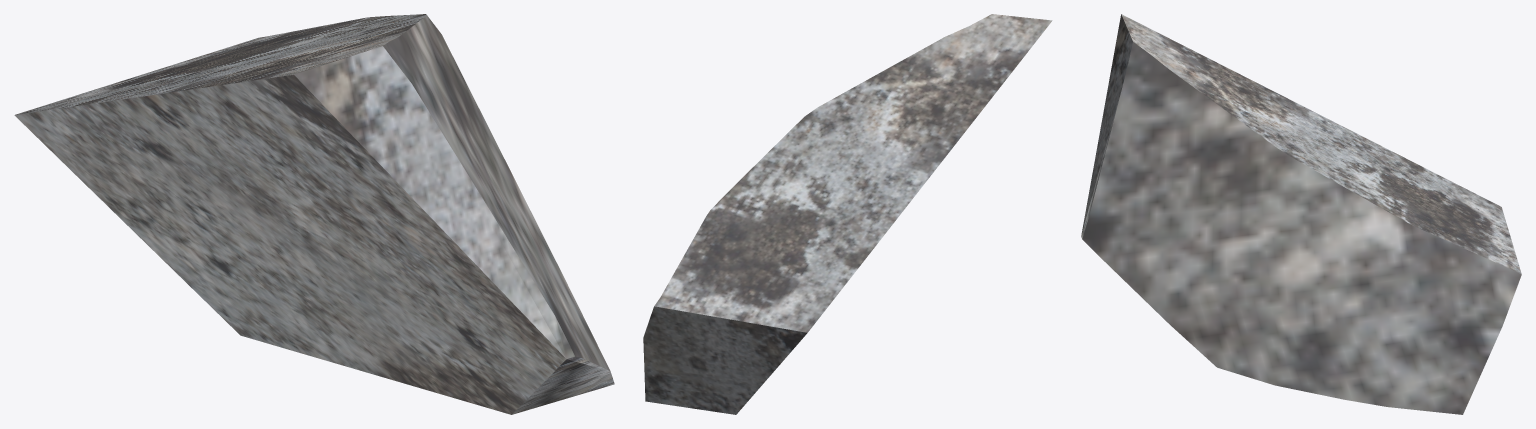
The model's file is Asteroid_Large_001_02_007_03_011.fbx.
3 views of the same model, side by side, from view 1: azimuth 30°, elevation 25°; view 2: azimuth 150°, elevation 25°; view 3: azimuth 270°, elevation 25° (orthographic). The views are drawn at different scales.
Parts seen in each view (by area): view 1: Asteroid_Large_001_02_007_03_011; view 2: Asteroid_Large_001_02_007_03_011; view 3: Asteroid_Large_001_02_007_03_011.
Part boxes in pixels (bbox=[...]): Asteroid_Large_001_02_007_03_011: bbox=[14, 14, 614, 414]; Asteroid_Large_001_02_007_03_011: bbox=[643, 14, 1052, 414]; Asteroid_Large_001_02_007_03_011: bbox=[1081, 14, 1521, 414].
Size of the model in its own units: 6.33 by 7.64 by 10.39.
